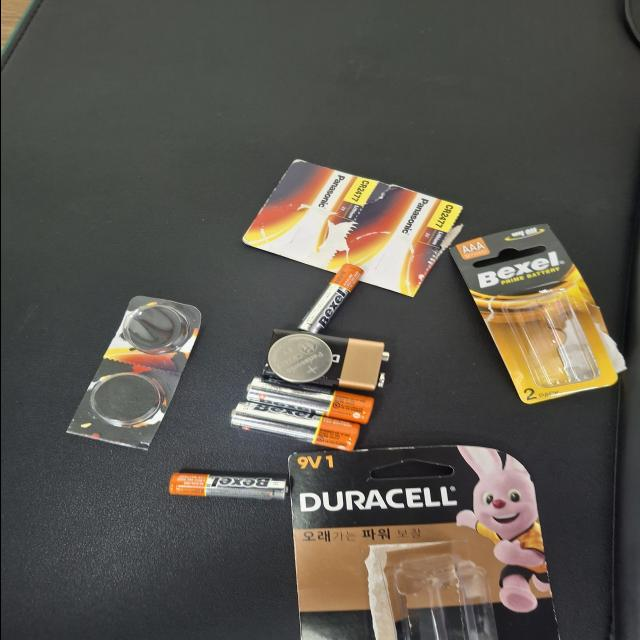9V: (120, 196, 202, 291)
AA: (39, 172, 105, 270), (75, 184, 138, 280)
AAA: (196, 222, 289, 272), (0, 126, 9, 214)
COIN: (130, 200, 196, 248)
